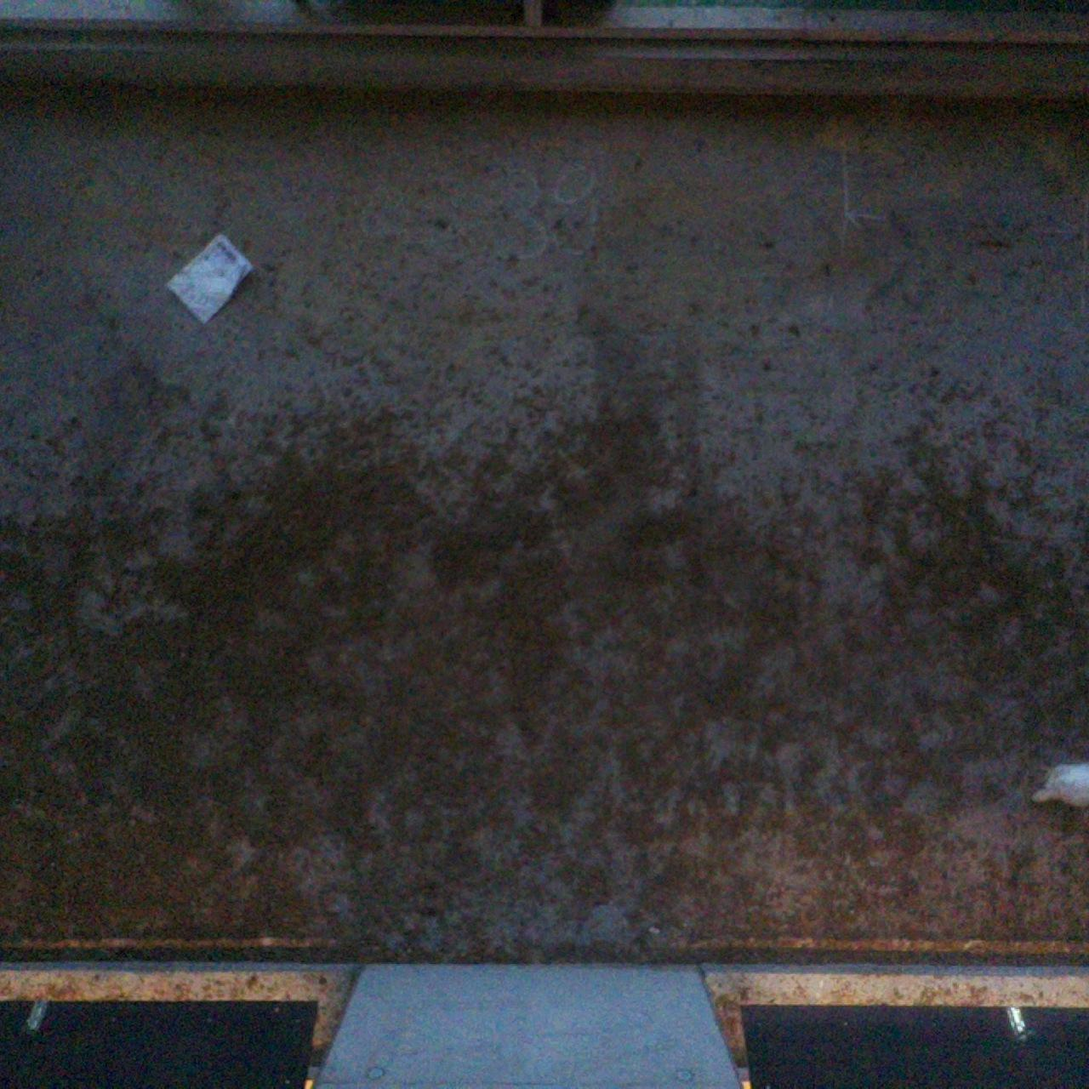chicken: (1033, 758, 1089, 806)
